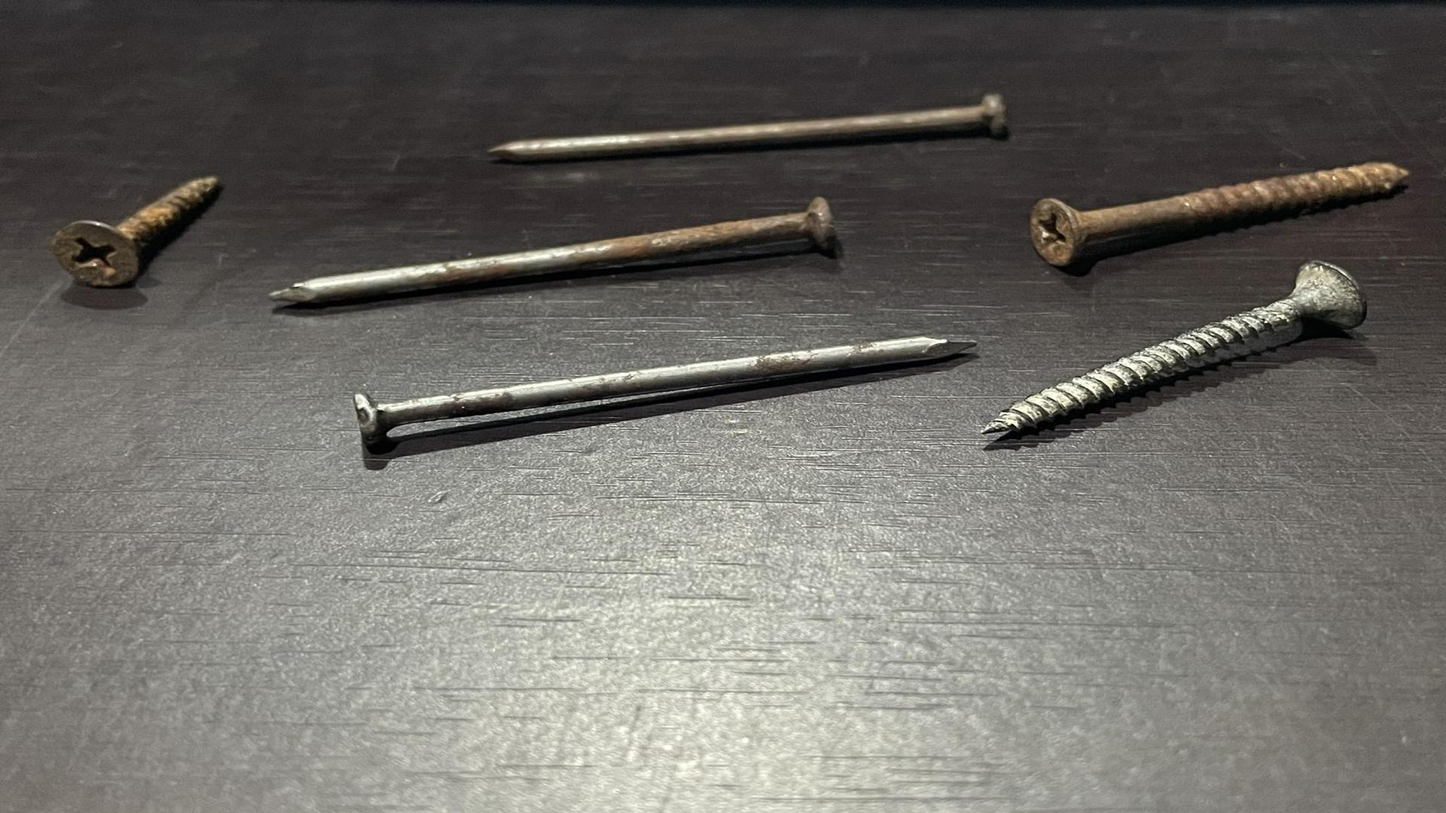nail: (305, 323, 987, 457), (255, 191, 891, 317), (416, 95, 1051, 164)
screw: (987, 273, 1406, 462), (1002, 165, 1446, 266), (34, 150, 247, 305)
